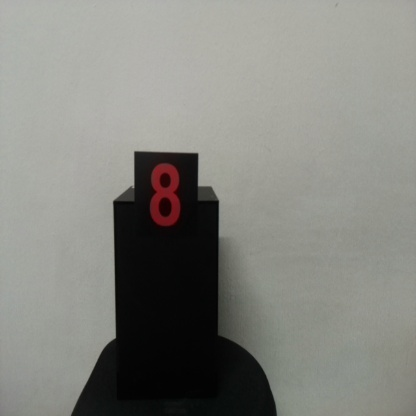id_8: (134, 152, 199, 250)
